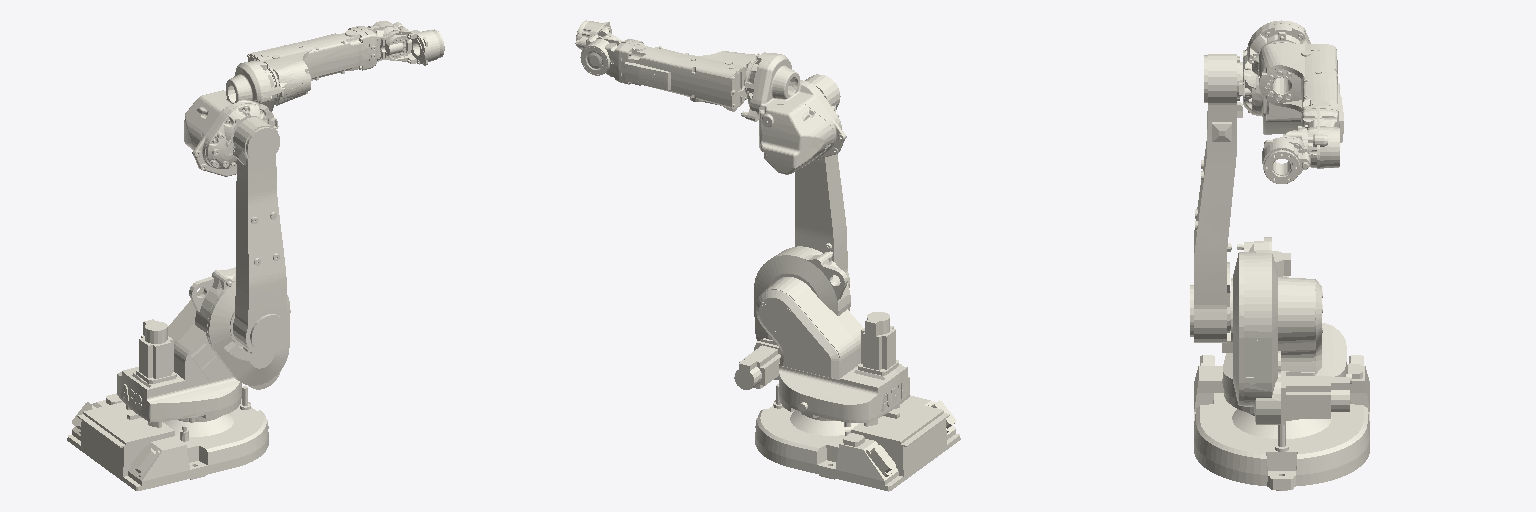
The robot description file, URDF, robot "irb1660id_urdf":
<?xml version="1.0" encoding="utf-8"?>
<!-- This URDF was automatically created by SolidWorks to URDF Exporter! Originally created by [author] ([email redacted]) 
     Commit Version: 1.5.1-0-g916b5db  Build Version: 1.5.7152.31018
     For more information, please see http://wiki.ros.org/sw_urdf_exporter -->
<robot
  name="irb1660id_urdf">
  <link
    name="base_link">
    <inertial>
      <origin
        xyz="-0.100375161367075 0.000390970978580763 0.0616227943183537"
        rpy="0 0 0" />
      <mass
        value="77.9592557682232" />
      <inertia
        ixx="1.31854103072857"
        ixy="0.00358366252710215"
        ixz="0.108863554717915"
        iyy="2.27072646473731"
        iyz="-0.00253883429271016"
        izz="3.38284674395846" />
    </inertial>
    <visual>
      <origin
        xyz="0 0 0"
        rpy="0 0 0" />
      <geometry>
        <mesh
          filename="package://irb1660id_urdf/meshes/base_link.STL" />
      </geometry>
      <material
        name="">
        <color
          rgba="0.9411765 0.9294118 0.8823529 1" />
      </material>
    </visual>
    <collision>
      <origin
        xyz="0 0 0"
        rpy="0 0 0" />
      <geometry>
        <mesh
          filename="package://irb1660id_urdf/meshes/base_link.STL" />
      </geometry>
    </collision>
  </link>
  <link
    name="link1">
    <inertial>
      <origin
        xyz="0.0519990377749481 -0.0120488695594507 0.219343785765112"
        rpy="0 0 0" />
      <mass
        value="109.270472888042" />
      <inertia
        ixx="2.30463812949388"
        ixy="0.177125469092963"
        ixz="-0.727981965539366"
        iyy="3.71432568594538"
        iyz="0.257894581614573"
        izz="2.60204691226752" />
    </inertial>
    <visual>
      <origin
        xyz="0 0 0"
        rpy="0 0 0" />
      <geometry>
        <mesh
          filename="package://irb1660id_urdf/meshes/link1.STL" />
      </geometry>
      <material
        name="">
        <color
          rgba="0.9411765 0.9294118 0.8823529 1" />
      </material>
    </visual>
    <collision>
      <origin
        xyz="0 0 0"
        rpy="0 0 0" />
      <geometry>
        <mesh
          filename="package://irb1660id_urdf/meshes/link1.STL" />
      </geometry>
    </collision>
  </link>
  <joint
    name="joint1"
    type="revolute">
    <origin
      xyz="0 0 0.1245"
      rpy="0 0 0" />
    <parent
      link="base_link" />
    <child
      link="link1" />
    <axis
      xyz="0 0 1" />
    <limit
      lower="-3.1416"
      upper="3.1416"
      effort="0"
      velocity="3.1415926" />
    <dynamics 
      damping="0.0" 
      friction="0.0" />
  </joint>
  <link
    name="link2">
    <inertial>
      <origin
        xyz="1.75201422670246E-05 -0.304949699011958 -0.0456994284809038"
        rpy="0 0 0" />
      <mass
        value="28.2621671516959" />
      <inertia
        ixx="1.76724394043958"
        ixy="0.000693782577073525"
        ixz="-1.77447368697019E-06"
        iyy="0.0707191111792836"
        iyz="0.0933029568400631"
        izz="1.7864039630571" />
    </inertial>
    <visual>
      <origin
        xyz="0 0 0"
        rpy="0 0 0" />
      <geometry>
        <mesh
          filename="package://irb1660id_urdf/meshes/link2.STL" />
      </geometry>
      <material
        name="">
        <color
          rgba="0.9411765 0.9294118 0.8823529 1" />
      </material>
    </visual>
    <collision>
      <origin
        xyz="0 0 0"
        rpy="0 0 0" />
      <geometry>
        <mesh
          filename="package://irb1660id_urdf/meshes/link2.STL" />
      </geometry>
    </collision>
  </link>
  <joint
    name="joint2"
    type="revolute">
    <origin
      xyz="0.15 -0.137 0.362"
      rpy="-1.5708 0 0" />
    <parent
      link="link1" />
    <child
      link="link2" />
    <axis
      xyz="0 0 1" />
    <limit
      lower="-1.5708"
      upper="2.618"
      effort="0"
      velocity="3.1415926" />
    <dynamics 
      damping="0.0" 
      friction="0.0" />
  </joint>
  <link
    name="link3">
    <inertial>
      <origin
        xyz="-0.00975174403432502 0.0147990430466223 0.132669721217499"
        rpy="0 0 0" />
      <mass
        value="30.3197777593996" />
      <inertia
        ixx="0.318787321008134"
        ixy="0.0798090773217549"
        ixz="0.0086120146148003"
        iyy="0.264001660112741"
        iyz="-0.0239315804204844"
        izz="0.328276729005075" />
    </inertial>
    <visual>
      <origin
        xyz="0 0 0"
        rpy="0 0 0" />
      <geometry>
        <mesh
          filename="package://irb1660id_urdf/meshes/link3.STL" />
      </geometry>
      <material
        name="">
        <color
          rgba="0.9411765 0.9294118 0.8823529 1" />
      </material>
    </visual>
    <collision>
      <origin
        xyz="0 0 0"
        rpy="0 0 0" />
      <geometry>
        <mesh
          filename="package://irb1660id_urdf/meshes/link3.STL" />
      </geometry>
    </collision>
  </link>
  <joint
    name="joint3"
    type="revolute">
    <origin
      xyz="0 -0.7 0.022"
      rpy="0 0 0" />
    <parent
      link="link2" />
    <child
      link="link3" />
    <axis
      xyz="0 0 1" />
    <limit
      lower="-4.1539"
      upper="1.3788"
      effort="0"
      velocity="3.1415926" />
    <dynamics 
      damping="0.0" 
      friction="0.0" />
  </joint>
  <link
    name="link4">
    <inertial>
      <origin
        xyz="0.00111806309592355 0.0846208308032767 0.241963737027343"
        rpy="0 0 0" />
      <mass
        value="23.0078224359861" />
      <inertia
        ixx="0.739942701589099"
        ixy="-0.00076727292541021"
        ixz="0.00238415449796323"
        iyy="0.706157470650038"
        iyz="-0.0967687096499879"
        izz="0.091566809519828" />
    </inertial>
    <visual>
      <origin
        xyz="0 0 0"
        rpy="0 0 0" />
      <geometry>
        <mesh
          filename="package://irb1660id_urdf/meshes/link4.STL" />
      </geometry>
      <material
        name="">
        <color
          rgba="0.9411765 0.9294118 0.8823529 1" />
      </material>
    </visual>
    <collision>
      <origin
        xyz="0 0 0"
        rpy="0 0 0" />
      <geometry>
        <mesh
          filename="package://irb1660id_urdf/meshes/link4.STL" />
      </geometry>
    </collision>
  </link>
  <joint
    name="joint4"
    type="revolute">
    <origin
      xyz="0.13611 -0.11 0.115"
      rpy="1.5708 0 1.5708" />
    <parent
      link="link3" />
    <child
      link="link4" />
    <axis
      xyz="0 0 1" />
    <limit
      lower="-3.0543"
      upper="3.0543"
      effort="0"
      velocity="5.5850536064" />
    <dynamics 
      damping="0.0" 
      friction="0.0" />
  </joint>
  <link
    name="link5">
    <inertial>
      <origin
        xyz="0.054233907222593 -0.000531488272738967 -0.0472678766186268"
        rpy="3.1415926 0 0" />
      <mass
        value="2.31926201410349" />
      <inertia
        ixx="0.00385442567600514"
        ixy="2.9627411370989E-05"
        ixz="0.000169872702173192"
        iyy="0.00296357335454615"
        iyz="-1.45415249923514E-05"
        izz="0.00321919836557807" />
    </inertial>
    <visual>
      <origin
        xyz="0 0 0"
        rpy="3.1415926 0 0" />
      <geometry>
        <mesh
          filename="package://irb1660id_urdf/meshes/link5.STL" />
      </geometry>
      <material
        name="">
        <color
          rgba="0.9411765 0.9294118 0.8823529 1" />
      </material>
    </visual>
    <collision>
      <origin
        xyz="0 0 0"
        rpy="3.1415926 0 0" />
      <geometry>
        <mesh
          filename="package://irb1660id_urdf/meshes/link5.STL" />
      </geometry>
    </collision>
  </link>
  <joint
    name="joint5"
    type="revolute">
    <origin
      xyz="0 0.07 0.54189"
      rpy="1.5708 -1.5708 0" />
    <parent
      link="link4" />
    <child
      link="link5" />
    <axis
      xyz="0 0 -1" />
    <limit
      lower="-2.0944"
      upper="2.0944"
      effort="0"
      velocity="6.2831853072" />
    <dynamics 
      damping="0.0" 
      friction="0.0" />
  </joint>
  <link
    name="link6">
    <inertial>
      <origin
        xyz="-0.000189201806371164 -5.03876864553707E-05 -0.00868482556266337"
        rpy="0 0 0" />
      <mass
        value="0.228452654885409" />
      <inertia
        ixx="0.000188102046277484"
        ixy="-7.4392845133517E-07"
        ixz="-2.26755376323219E-07"
        iyy="0.000187264343639027"
        iyz="6.64628135235805E-08"
        izz="0.00036234255325034" />
    </inertial>
    <visual>
      <origin
        xyz="0 0 0"
        rpy="0 0 0" />
      <geometry>
        <mesh
          filename="package://irb1660id_urdf/meshes/link6.STL" />
      </geometry>
      <material
        name="">
        <color
          rgba="0.9411765 0.9294118 0.8823529 1" />
      </material>
    </visual>
    <collision>
      <origin
        xyz="0 0 0"
        rpy="0 0 0" />
      <geometry>
        <mesh
          filename="package://irb1660id_urdf/meshes/link6.STL" />
      </geometry>
    </collision>
  </link>
  <joint
    name="joint6"
    type="revolute">
    <origin
      xyz="0.135 0.00050003 0.070148"
      rpy="-1.5708 0 -1.5708" />
    <parent
      link="link5" />
    <child
      link="link6" />
    <axis
      xyz="0 0 1" />
    <limit
      lower="-6.9813"
      upper="6.9813"
      effort="0"
      velocity="8.72664626" />
    <dynamics 
      damping="0.0" 
      friction="0.0" />
  </joint>
</robot>

--- Facts derived from the render (not from the file) ---
3 views of the same robot in one strip: view 1: azimuth 30°, elevation 25°; view 2: azimuth 150°, elevation 25°; view 3: azimuth 270°, elevation 25° (orthographic).
Model irb1660id_urdf with 7 links and 6 joints (6 revolute), rooted at base_link, posed every joint at zero.
Links seen in each view (by area): view 1: link1, base_link, link2, link3, link4, link5; view 2: link1, base_link, link3, link4, link2, link5; view 3: link1, base_link, link2, link4, link3, link5, link6.
Link boxes in pixels (bbox=[...]): link1: bbox=[117, 267, 290, 427]; base_link: bbox=[67, 386, 268, 490]; link2: bbox=[233, 117, 289, 356]; link3: bbox=[184, 60, 281, 176]; link4: bbox=[247, 21, 404, 105]; link5: bbox=[380, 28, 439, 65]; link1: bbox=[734, 246, 909, 426]; base_link: bbox=[755, 384, 960, 491]; link3: bbox=[741, 52, 846, 174]; link4: bbox=[580, 35, 755, 111]; link2: bbox=[795, 74, 849, 287]; link5: bbox=[575, 21, 619, 49]; link1: bbox=[1222, 237, 1351, 424]; base_link: bbox=[1194, 355, 1369, 490]; link2: bbox=[1190, 54, 1242, 342]; link4: bbox=[1252, 41, 1343, 168]; link3: bbox=[1239, 20, 1339, 134]; link5: bbox=[1262, 127, 1310, 175]; link6: bbox=[1264, 150, 1299, 183].
Bounding box of the posed robot: 1.35 × 0.4943 × 1.39 m (x, y, z).
7 mesh visuals loaded from 7 distinct referenced files (7 binary STL).